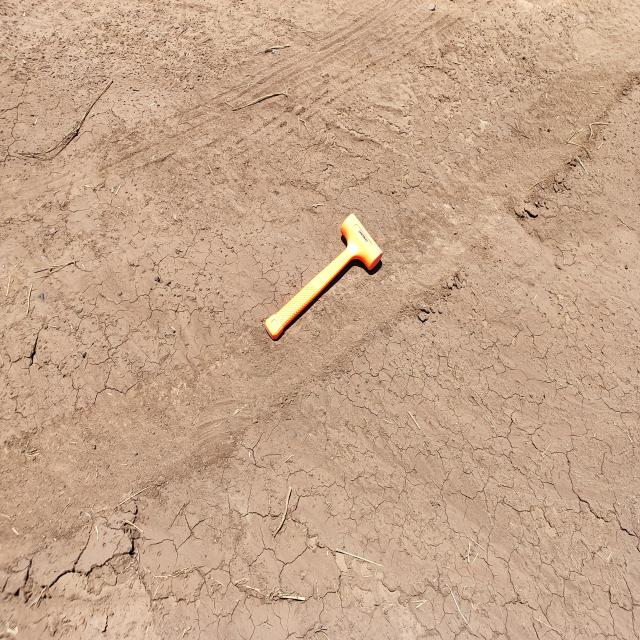Orange_hammer: (264, 212, 383, 341)
